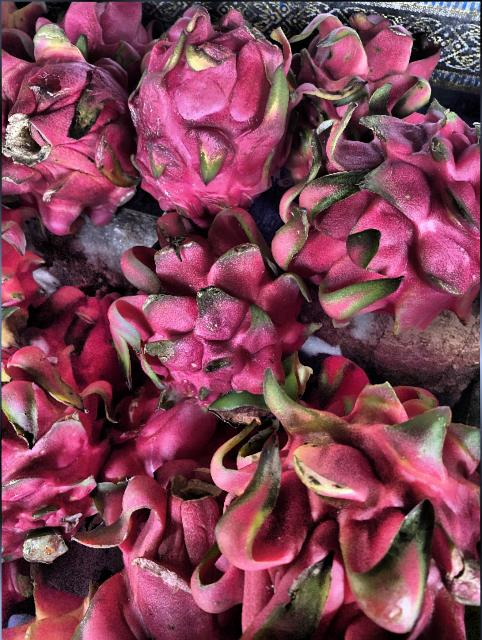buah-naga-belum-matang: (1, 12, 140, 246), (132, 8, 282, 216)
buah-naga-matang: (191, 380, 482, 640), (279, 98, 480, 328), (110, 220, 306, 406), (2, 338, 102, 578)
